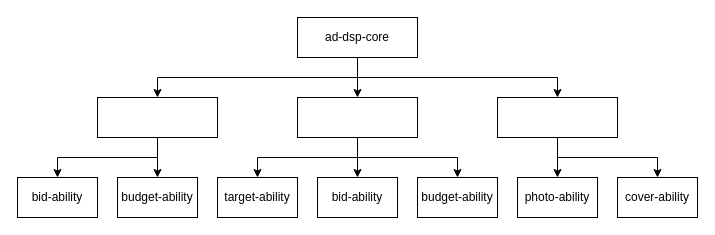
The diagram is 715 pixels wide and 235 high, and some of its shapes have lost their labels. Each missing label, with the box of its shape:
campaign-domain: (96, 96, 218, 138)
creative-domain: (496, 96, 618, 138)
unit-domain: (296, 96, 418, 138)
